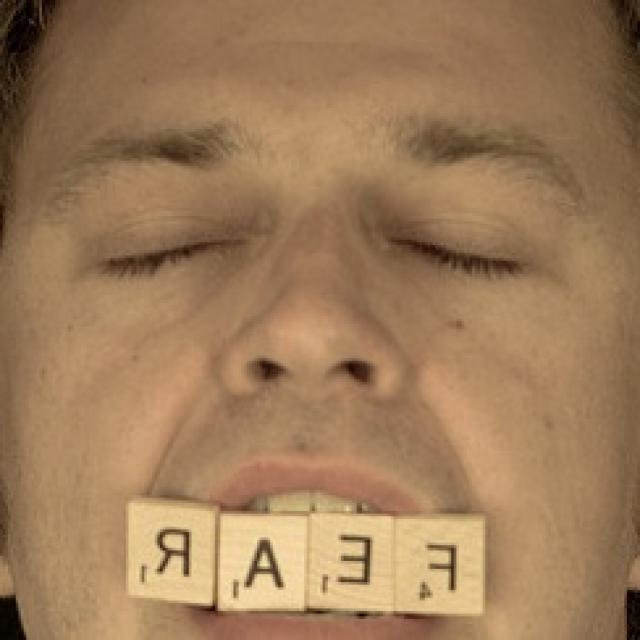close: (370, 102, 576, 314), (49, 107, 253, 309)
